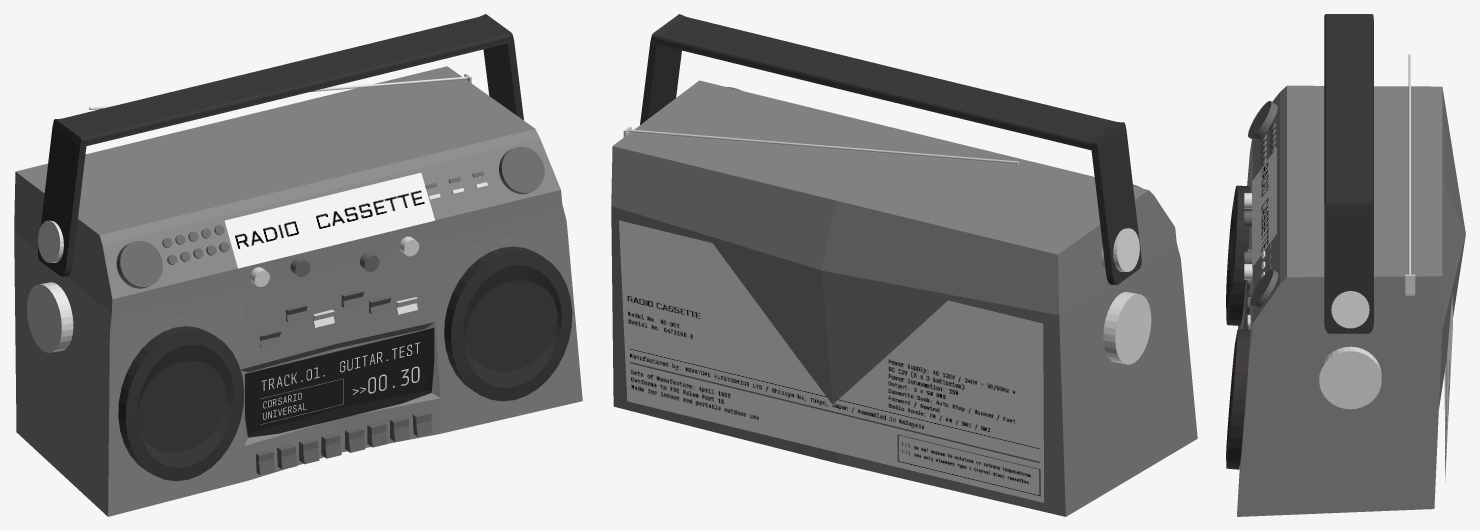
File: radiocassette.fbx
The picture shows the model from 3 angles, left to right: view 1: azimuth 30°, elevation 25°; view 2: azimuth 150°, elevation 25°; view 3: azimuth 270°, elevation 25°; orthographic projection. The views are drawn at different scales.
Parts seen in each view (by area): view 1: RADIO, Cube.001, Cylinder, Cylinder.007, Plane, radiocassette-02, Cylinder.006, Cube.002, Cube.009, Cylinder.004, Cylinder.003, radiocassette-03 (+1 smaller); view 2: RADIO, radiocassette_Mesa de trabajo 1, Cube.001, Cylinder.006, Cylinder.014, Cylinder.005; view 3: RADIO, Cube.001, Cylinder.001, Cylinder.007, Cylinder, radiocassette-02, Cylinder.002, radiocassette_Mesa de trabajo 1, Cylinder.004, Cylinder.014, Cylinder.003.
Part boxes in pixels (bbox=[...]): RADIO: bbox=[14, 66, 582, 516]; Cube.001: bbox=[38, 14, 523, 276]; Cylinder: bbox=[444, 246, 572, 401]; Cylinder.007: bbox=[118, 326, 244, 481]; Plane: bbox=[245, 328, 434, 437]; radiocassette-02: bbox=[224, 172, 434, 268]; Cylinder.006: bbox=[27, 282, 73, 352]; Cube.002: bbox=[345, 411, 432, 452]; Cube.009: bbox=[256, 432, 341, 475]; Cylinder.004: bbox=[116, 241, 162, 288]; Cylinder.003: bbox=[499, 146, 544, 194]; radiocassette-03: bbox=[260, 342, 419, 424]; RADIO: bbox=[611, 80, 1197, 516]; radiocassette_Mesa de trabajo 1: bbox=[619, 220, 1043, 502]; Cube.001: bbox=[640, 14, 1141, 284]; Cylinder.006: bbox=[1103, 292, 1151, 364]; Cylinder.014: bbox=[628, 129, 1019, 163]; Cylinder.005: bbox=[1101, 228, 1139, 271]; RADIO: bbox=[1237, 85, 1465, 516]; Cube.001: bbox=[1324, 14, 1373, 333]; Cylinder.001: bbox=[1319, 346, 1381, 409]; Cylinder.007: bbox=[1226, 185, 1250, 325]; Cylinder: bbox=[1226, 329, 1250, 469]; radiocassette-02: bbox=[1252, 148, 1276, 267]; Cylinder.002: bbox=[1331, 291, 1369, 328]; radiocassette_Mesa de trabajo 1: bbox=[1444, 293, 1452, 481]; Cylinder.004: bbox=[1248, 101, 1277, 141]; Cylinder.014: bbox=[1408, 54, 1410, 274]; Cylinder.003: bbox=[1250, 269, 1278, 308].
Bounding box in the file's own units: 132 × 88.64 × 63.38.
